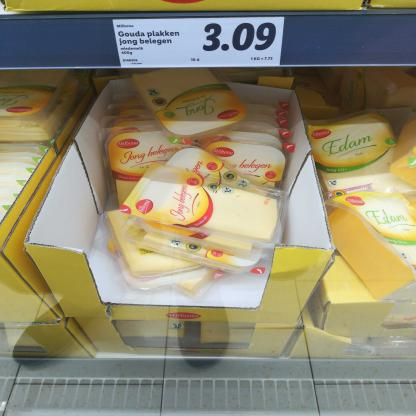prtg: (114, 18, 286, 68)
